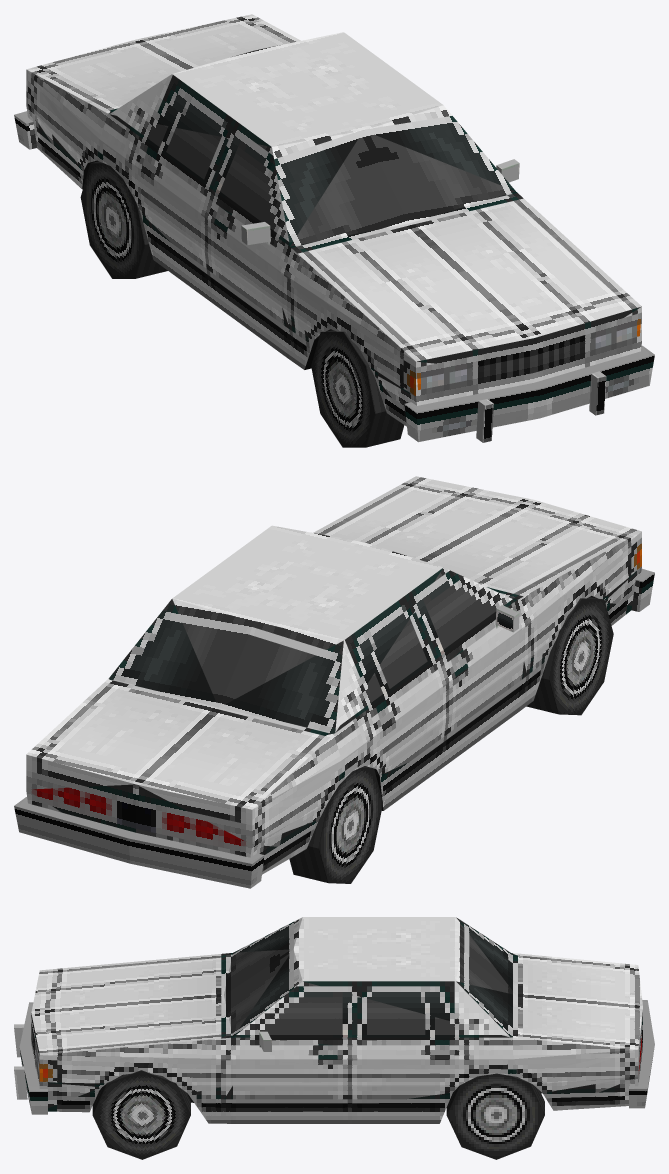
File: sedan.glb
3 renders of one model, top to bottom at view 1: azimuth 30°, elevation 25°; view 2: azimuth 150°, elevation 25°; view 3: azimuth 270°, elevation 25°, orthographic. The views are drawn at different scales.
Visible parts, largest first — view 1: body, wheel_fr, wheel_rr; view 2: body, wheel_rr, wheel_fr; view 3: body, wheel_fl, wheel_rl.
Boxes of the visible parts, x1=… form: body: x1=14, y1=14, x2=654, y2=442; wheel_fr: x1=311, y1=330, x2=404, y2=447; wheel_rr: x1=80, y1=161, x2=167, y2=278; body: x1=14, y1=476, x2=654, y2=888; wheel_rr: x1=289, y1=766, x2=382, y2=883; wheel_fr: x1=526, y1=596, x2=613, y2=715; body: x1=14, y1=917, x2=654, y2=1123; wheel_fl: x1=92, y1=1070, x2=190, y2=1159; wheel_rl: x1=446, y1=1073, x2=544, y2=1159.
Size of what is drawn, in the model's own units: 1.28 by 0.968 by 3.39.
Materials: 4 (4 with a texture image).
